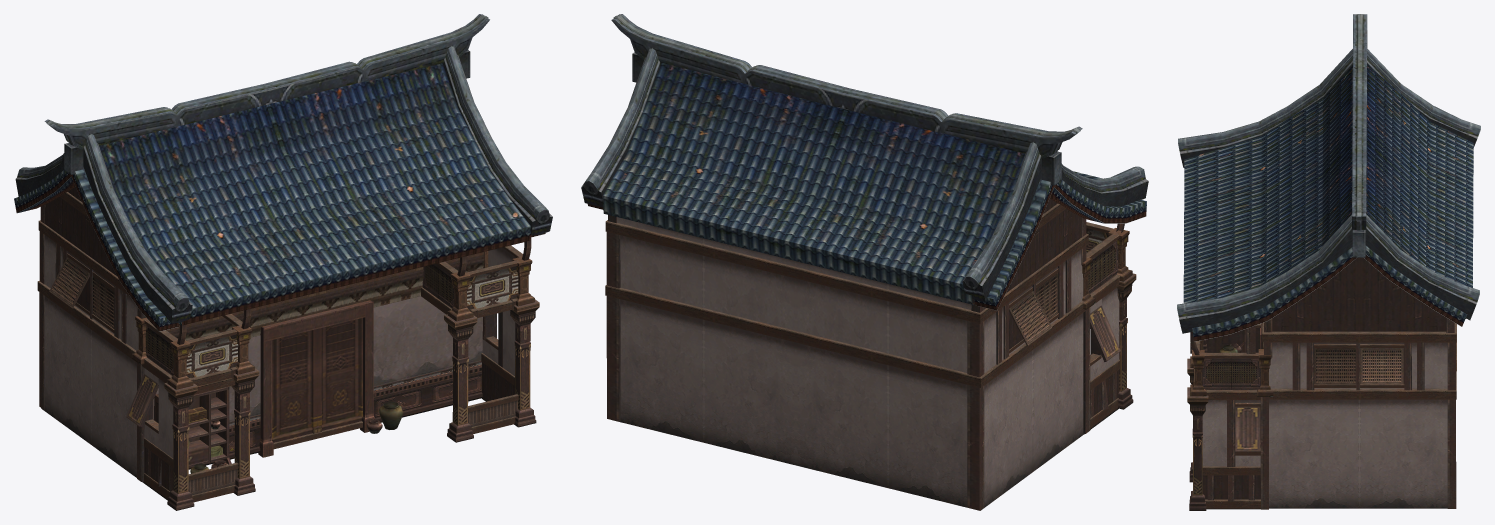
File: Youshuizhou_zhiwu_034.FBX
3 renders of one model, left to right at view 1: azimuth 30°, elevation 25°; view 2: azimuth 150°, elevation 25°; view 3: azimuth 270°, elevation 25°, orthographic. The views are drawn at different scales.
Parts seen in each view (by area): view 1: DrawCall_0202; view 2: DrawCall_0202; view 3: DrawCall_0202.
Part boxes in pixels (x1=…): DrawCall_0202: x1=14, y1=14, x2=552, y2=510; DrawCall_0202: x1=581, y1=14, x2=1148, y2=510; DrawCall_0202: x1=1177, y1=14, x2=1480, y2=510.
Bounding box in the file's own units: 288 × 211 × 182.
Materials: 1 (1 with a texture image).
